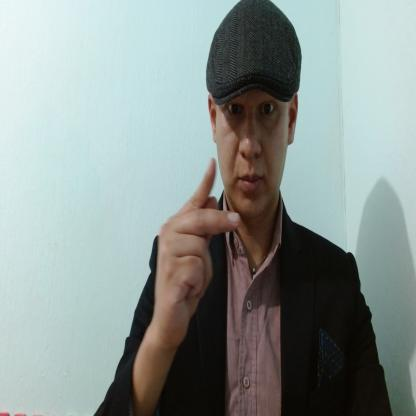P: (154, 154, 242, 346)
